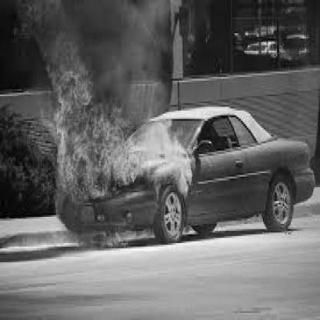Fire: (93, 226, 129, 248)
